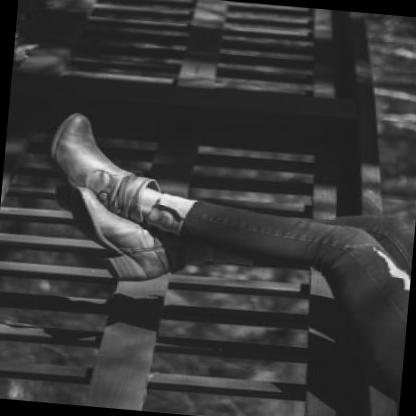ankle: (160, 248, 166, 253), (105, 193, 111, 198)
heel: (149, 273, 153, 277), (61, 196, 65, 199)
left_foot: (45, 112, 134, 207)
pinky: (67, 127, 72, 131), (103, 208, 105, 210)
right_foot: (68, 199, 190, 288)
toe: (84, 122, 90, 127), (93, 206, 97, 208)
